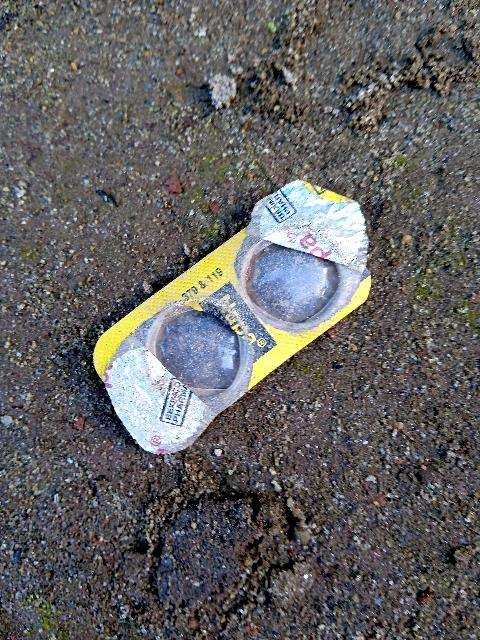medicine: (69, 177, 385, 459)
